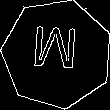M_S: (32, 27, 82, 81)
